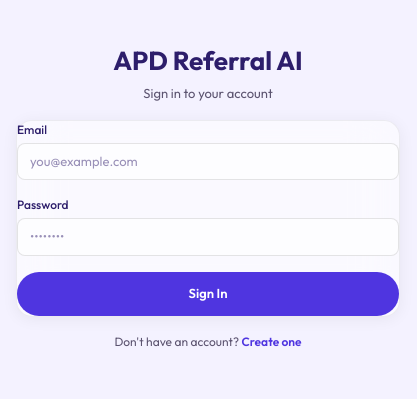
Test: Login › shows error message when signIn throws
This screenshot has width=417, height=399.
Type "bad@test.com" into the field labelled "Email" at (208, 162), box 17,143 -> 399,180
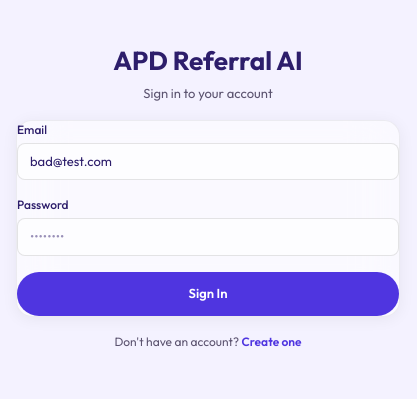
Type "wrong" into the password field labelled "Password" at (208, 237), box 17,218 -> 399,256
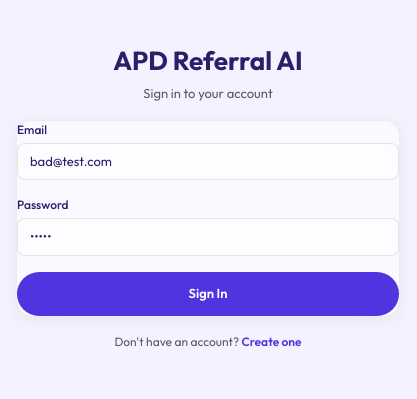
Click the button "Sign In" at (208, 294), box 17,272 -> 399,316
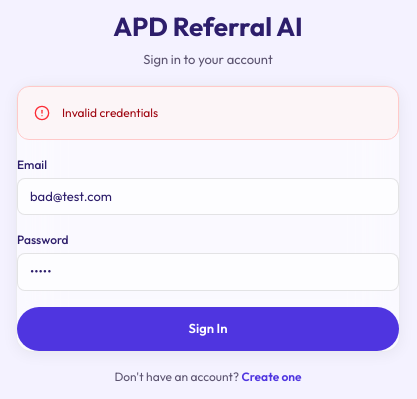
Expected: the text "Invalid credentials" is shown, 62,103 -> 158,122
